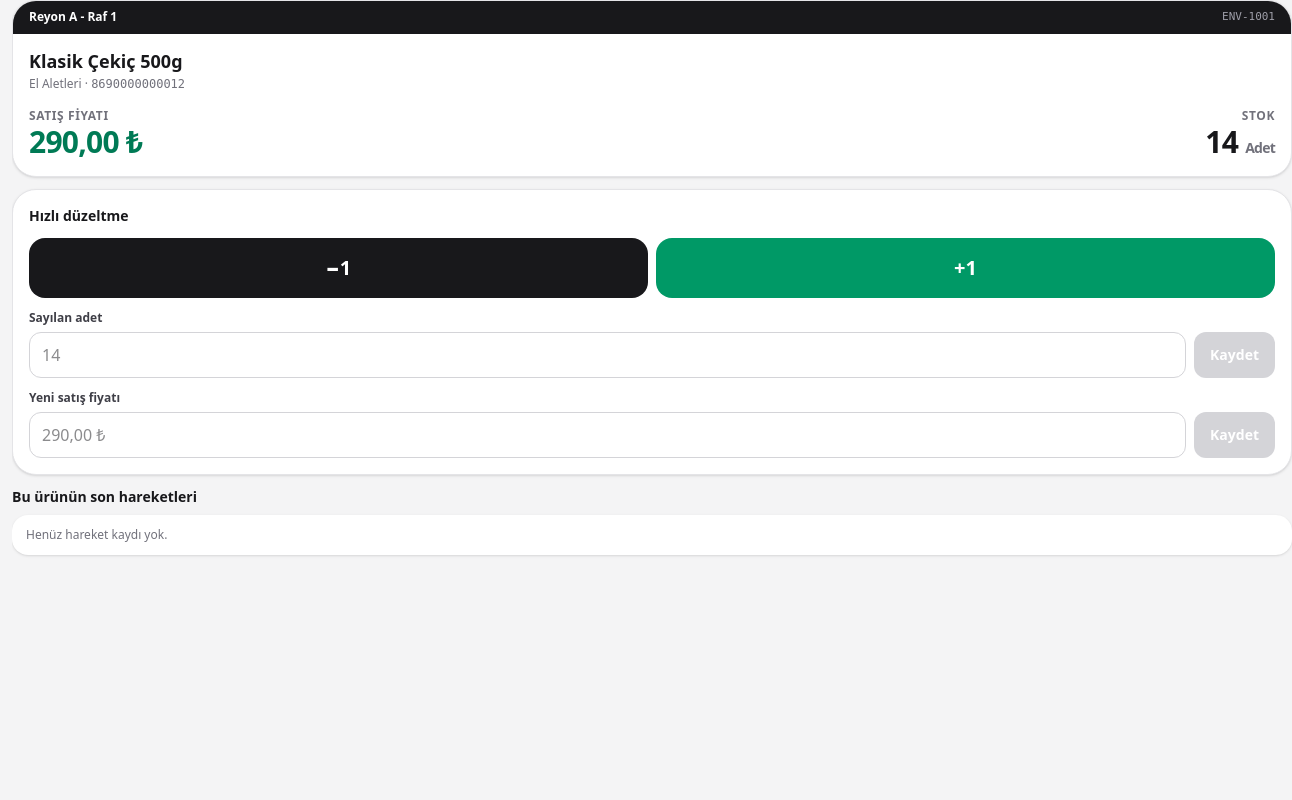
Test case: hızlı stok düzeltme › ağ hatasında da geri alınır
Click the button "+1" at x=966, y=268, box [656,238,1275,298]
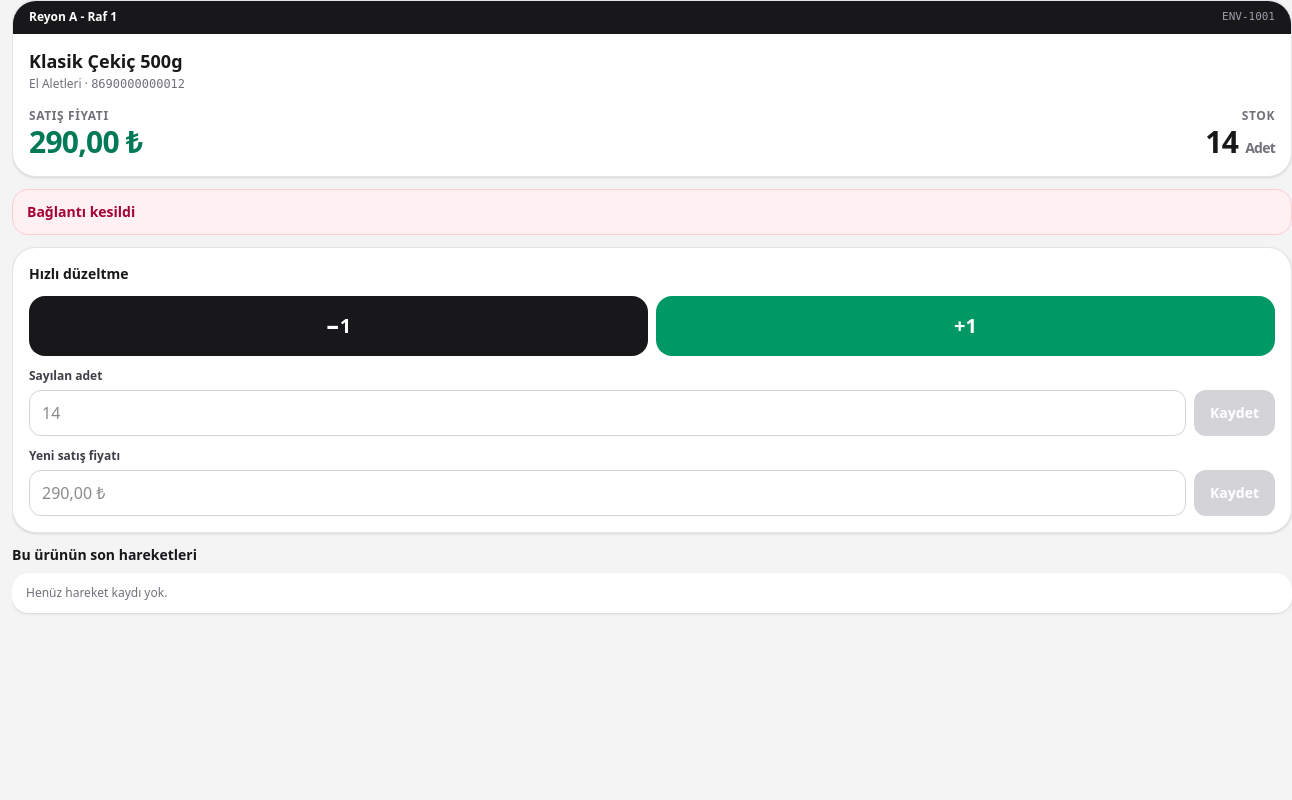
expect the element showing "14 Adet" is shown: met, box [1205,124,1275,160]
expect the message reads "Bağlantı kesildi": met, box [27,202,135,221]
